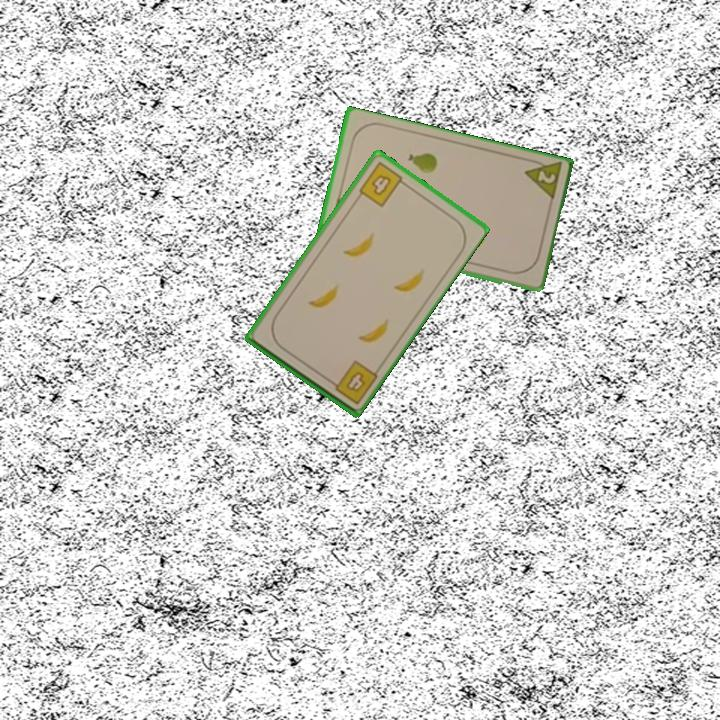2p: (520, 155, 564, 205)
4b: (355, 158, 410, 210), (324, 356, 380, 407)
